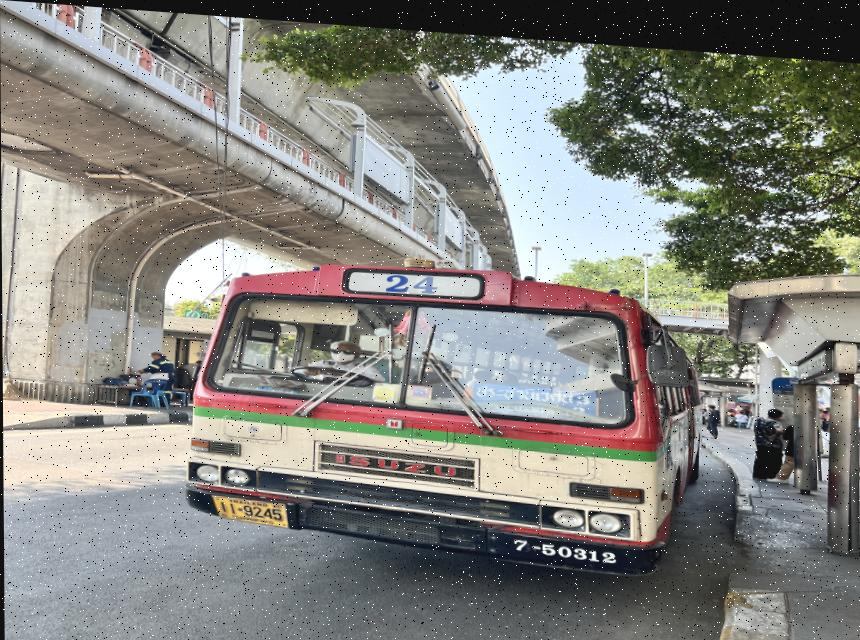BMTA-bus: (183, 256, 695, 568)
Bus Line Number: (342, 262, 486, 295)
Bus Side Number: (506, 526, 623, 556)
Destination Sign: (472, 373, 598, 409)
